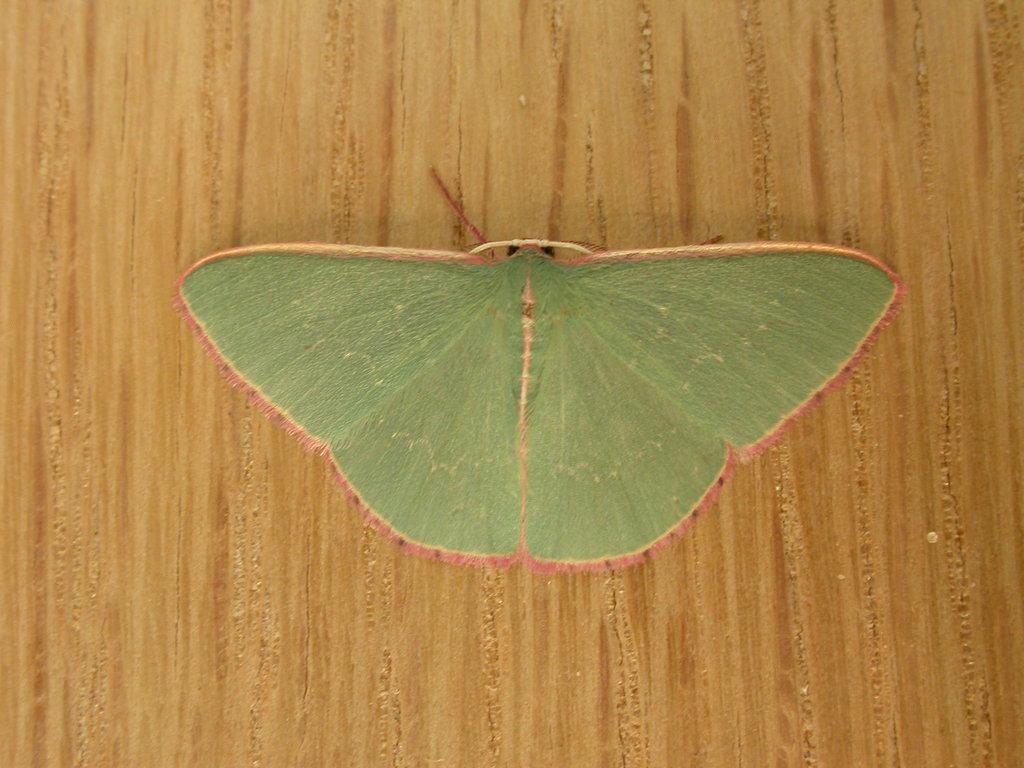Butterfly: (149, 159, 938, 594)
